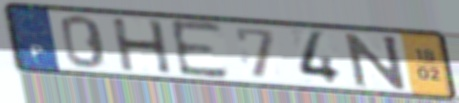0: (58, 13, 107, 70)
4: (295, 28, 345, 88)
7: (233, 26, 278, 81)
E: (166, 18, 233, 82)
H: (108, 17, 175, 75)
N: (342, 31, 411, 91)
